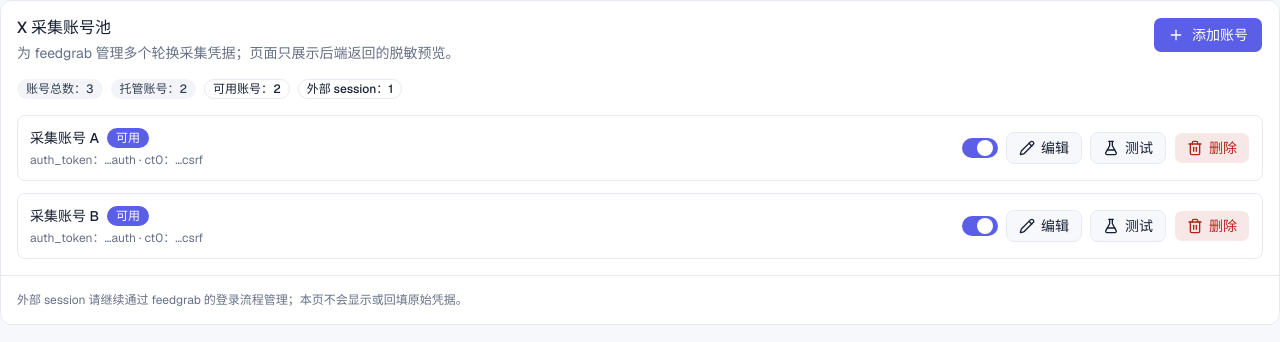
XCredentialAccountsCard › globally locks account actions while a cross-account mutation is pending
The image size is (1280, 342).
Click the button with aria-label "测试采集账号 A". click: (1128, 148)
box: [1090,132,1166,164]
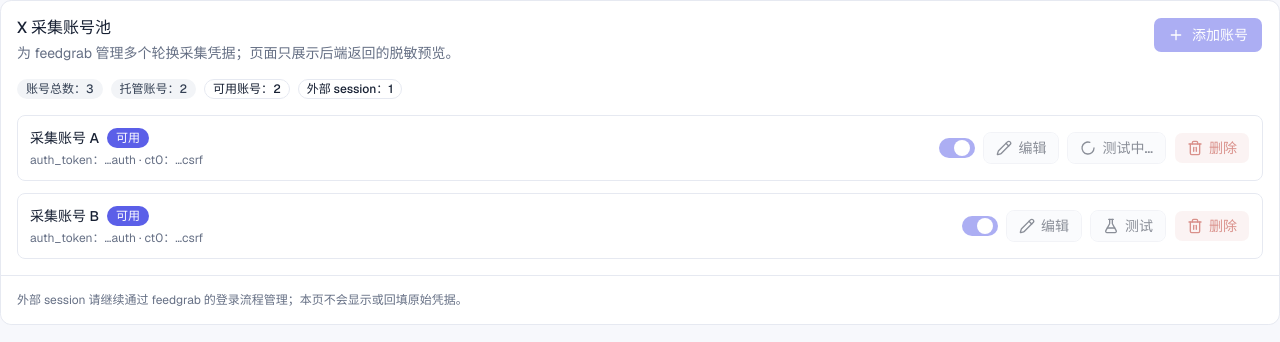
Check: the button "添加账号" is disabled, box [1153,17,1263,53]
Check: the button with aria-label "编辑采集账号 B" is disabled, box [1006,210,1082,242]
Check: the button with aria-label "测试采集账号 B" is disabled
Click the button with aria-label "测试采集账号 B". click: (1128, 226)
box: [1090,210,1166,242]
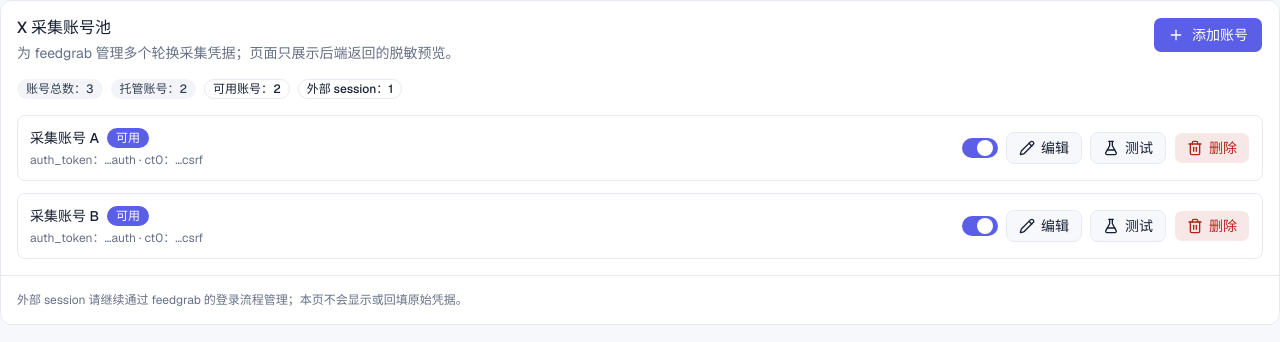
Check: the button with aria-label "测试采集账号 B" is enabled, box [1090,210,1166,242]
